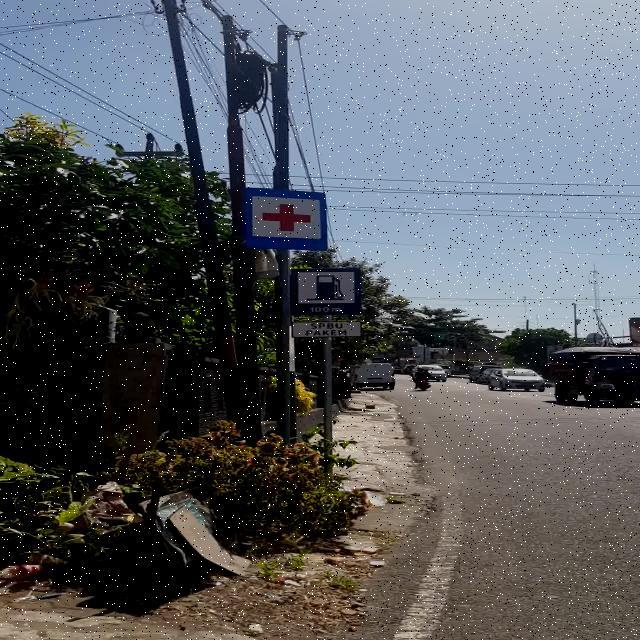Balai Pertolongan Pertama: (245, 187, 328, 251)
Pom Bensin: (291, 268, 360, 315)
